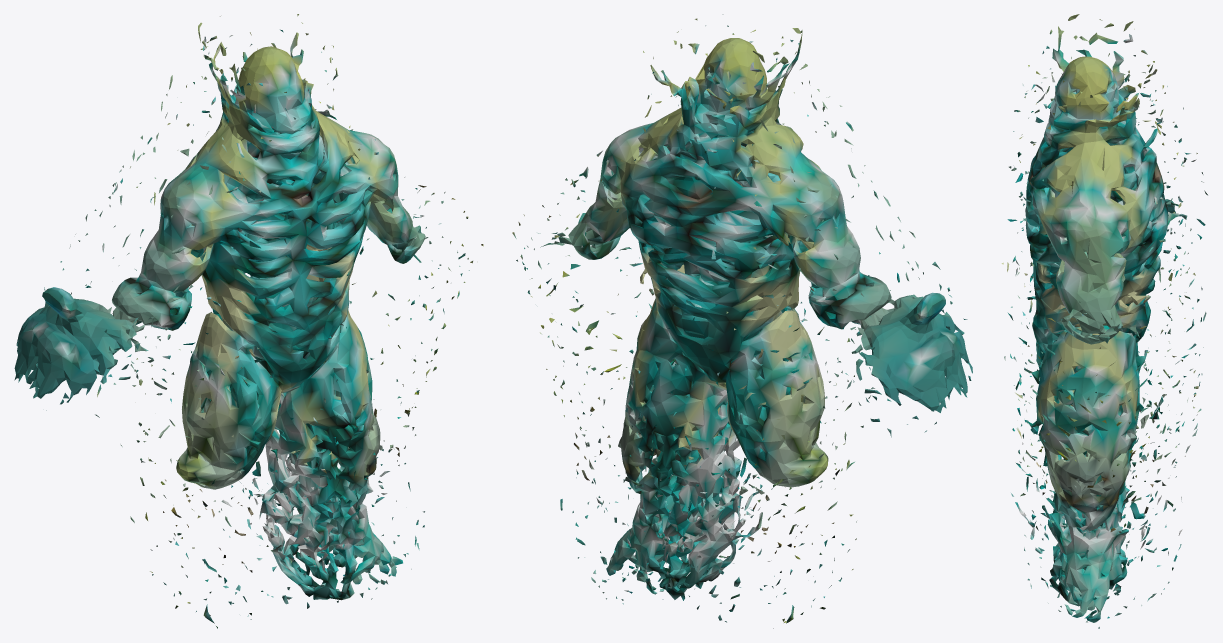
File: waterSpiritSummon.glb
The picture shows the model from 3 angles, left to right: view 1: azimuth 30°, elevation 25°; view 2: azimuth 150°, elevation 25°; view 3: azimuth 270°, elevation 25°; orthographic projection. The views are drawn at different scales.
Parts seen in each view (by area): view 1: world; view 2: world; view 3: world.
Boxes of the visible parts, x1,y1,x2,y2 form: world: (14, 14, 483, 628); world: (512, 14, 972, 628); world: (1001, 14, 1207, 628).
Bounding box in the file's own units: 0.7775 × 1 × 0.3488.
